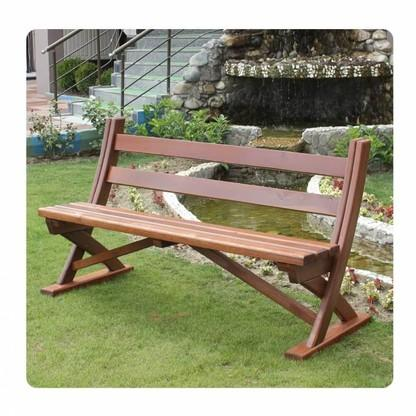obstacle: (47, 110, 376, 348)
